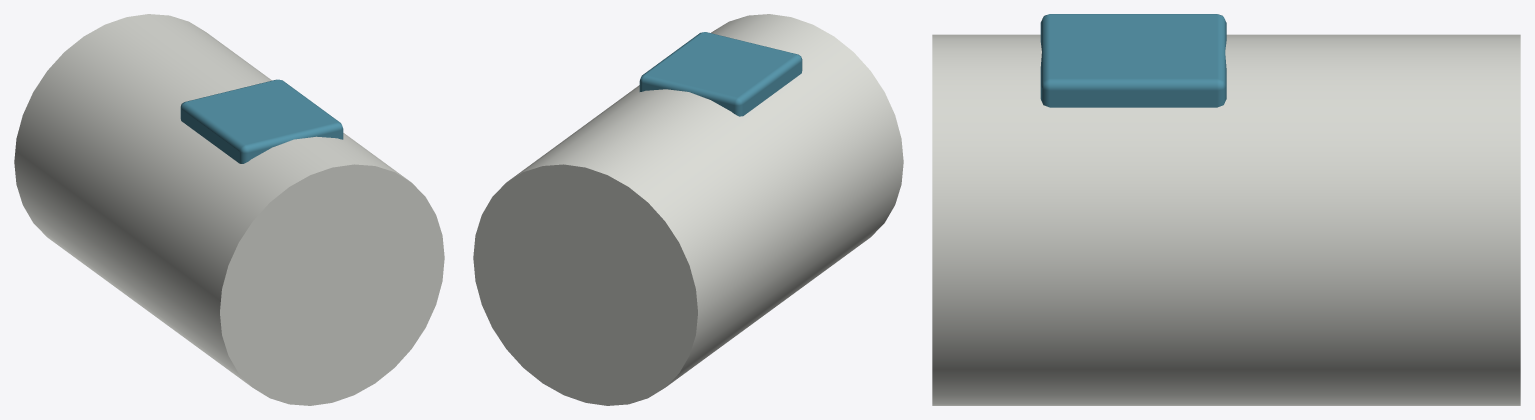
3 renders of one model, left to right at view 1: azimuth 30°, elevation 25°; view 2: azimuth 150°, elevation 25°; view 3: azimuth 270°, elevation 25°, orthographic. The views are drawn at different scales.
Parts seen in each view (by area): view 1: escape-pod; view 2: escape-pod; view 3: escape-pod.
Part boxes in pixels (bbox=[...]): escape-pod: bbox=[14, 14, 444, 405]; escape-pod: bbox=[473, 14, 903, 405]; escape-pod: bbox=[932, 14, 1520, 405].
Size of the model in its own units: 1.2 by 1.22 by 1.9.
